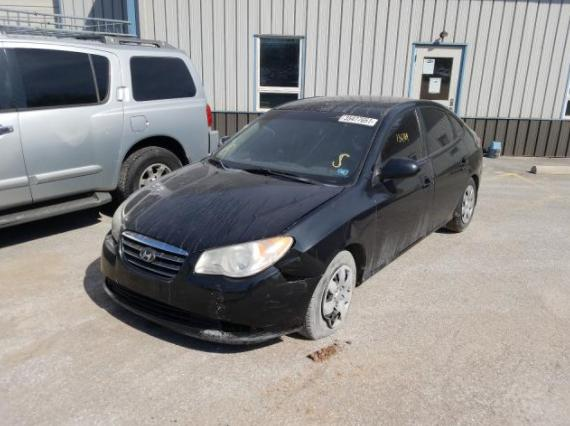Back-door: (417, 104, 470, 233)
Back-wheel: (447, 177, 477, 233)
Back-window: (420, 105, 462, 159)
Fender: (274, 181, 380, 285)
Front-bumper: (101, 233, 322, 346)
Front-door: (371, 105, 435, 270)
Front-wheel: (297, 250, 356, 339)
Front-window: (379, 110, 424, 177)
Grille: (117, 230, 188, 281)
Headlight: (192, 236, 294, 278), (111, 202, 124, 242)
Hood: (118, 158, 345, 255)
Mirror: (379, 157, 419, 177)
Quarter-panel: (462, 126, 483, 191)
Rocker-panel: (369, 213, 453, 278)
Roof: (273, 95, 425, 120)
Windshield: (208, 108, 384, 187)
